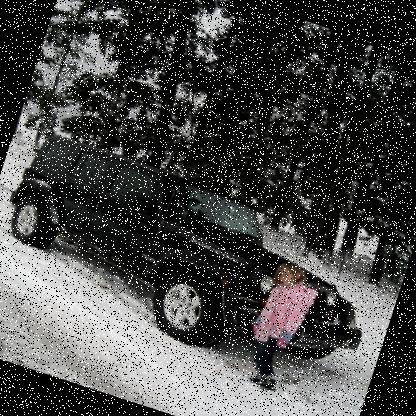Car: (0, 120, 395, 395)
